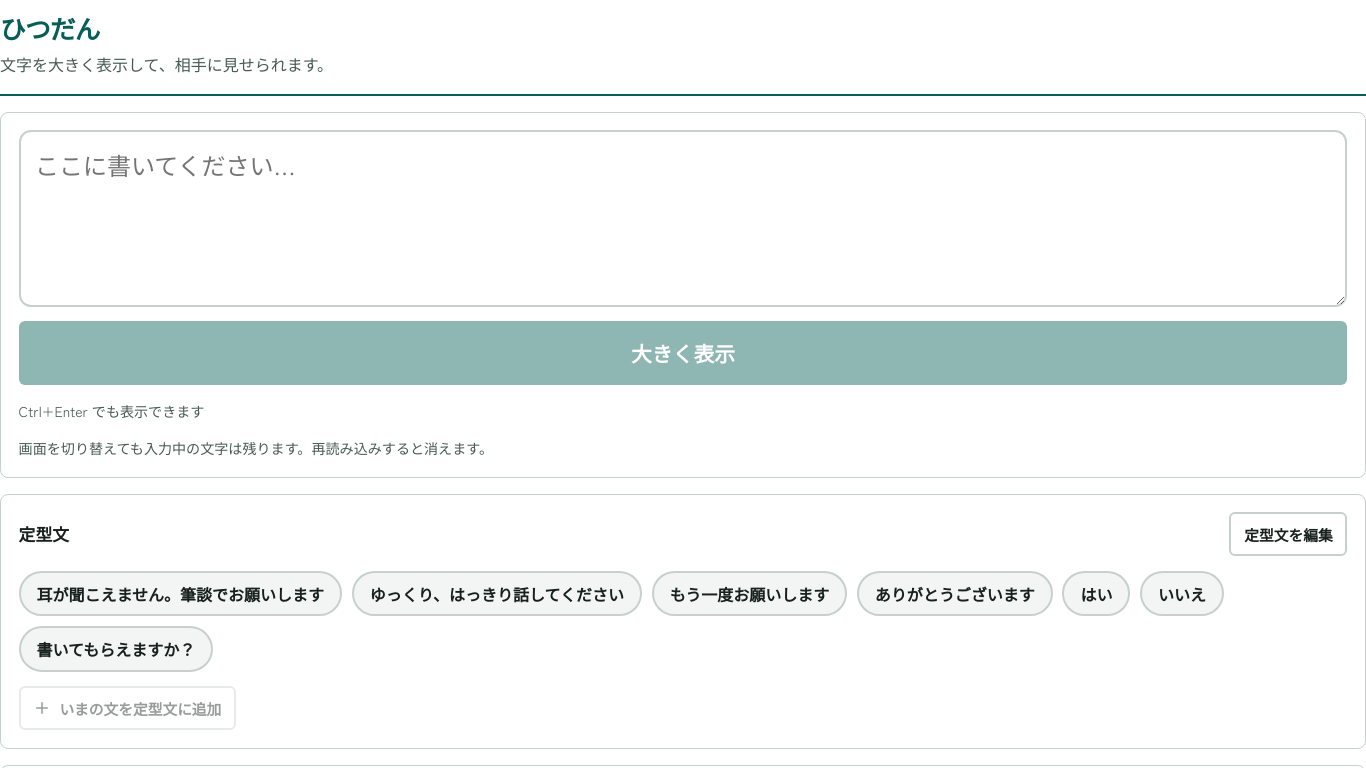
it: Board › shows with Ctrl+Enter
In the text box named "ひつだん": (683, 219) [19, 130, 1347, 307], type "駅はどこですか"
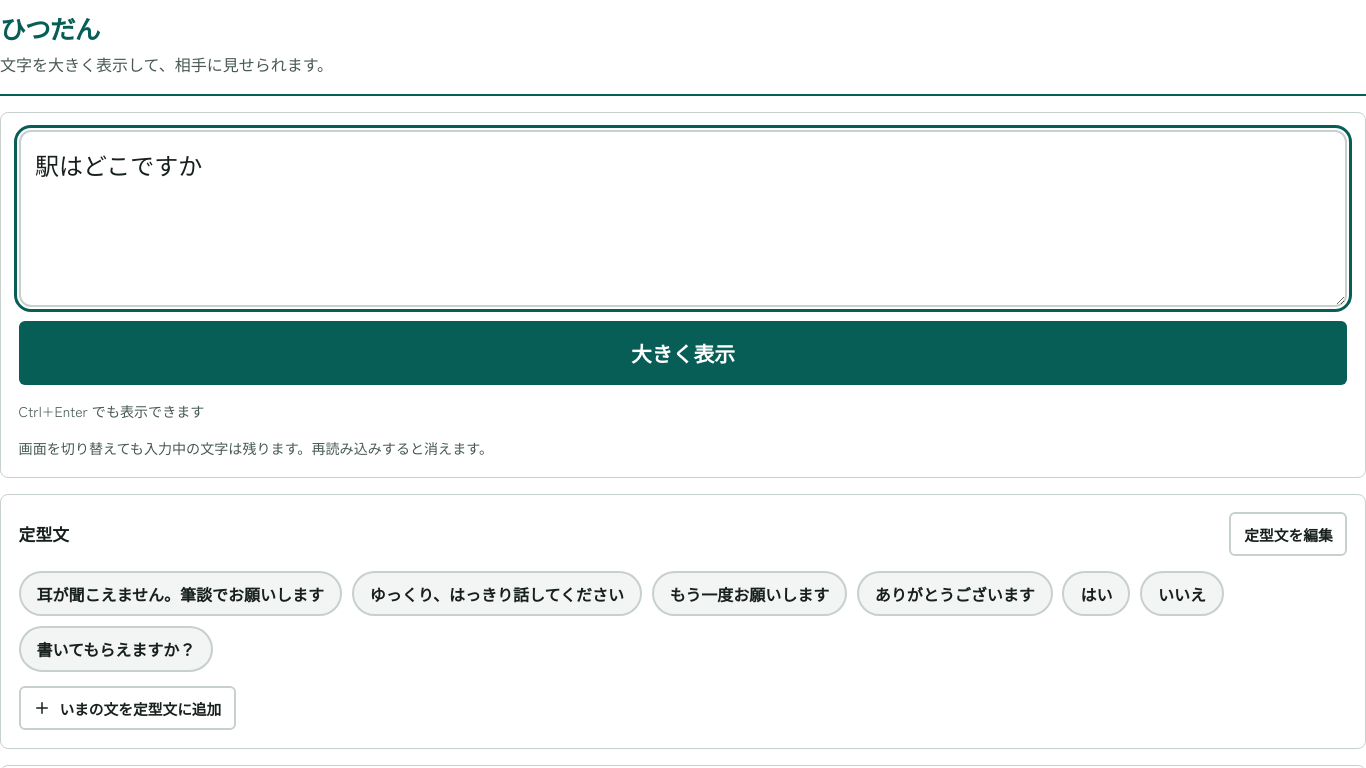
Type keys "{Control>}{Enter}{/Control}"
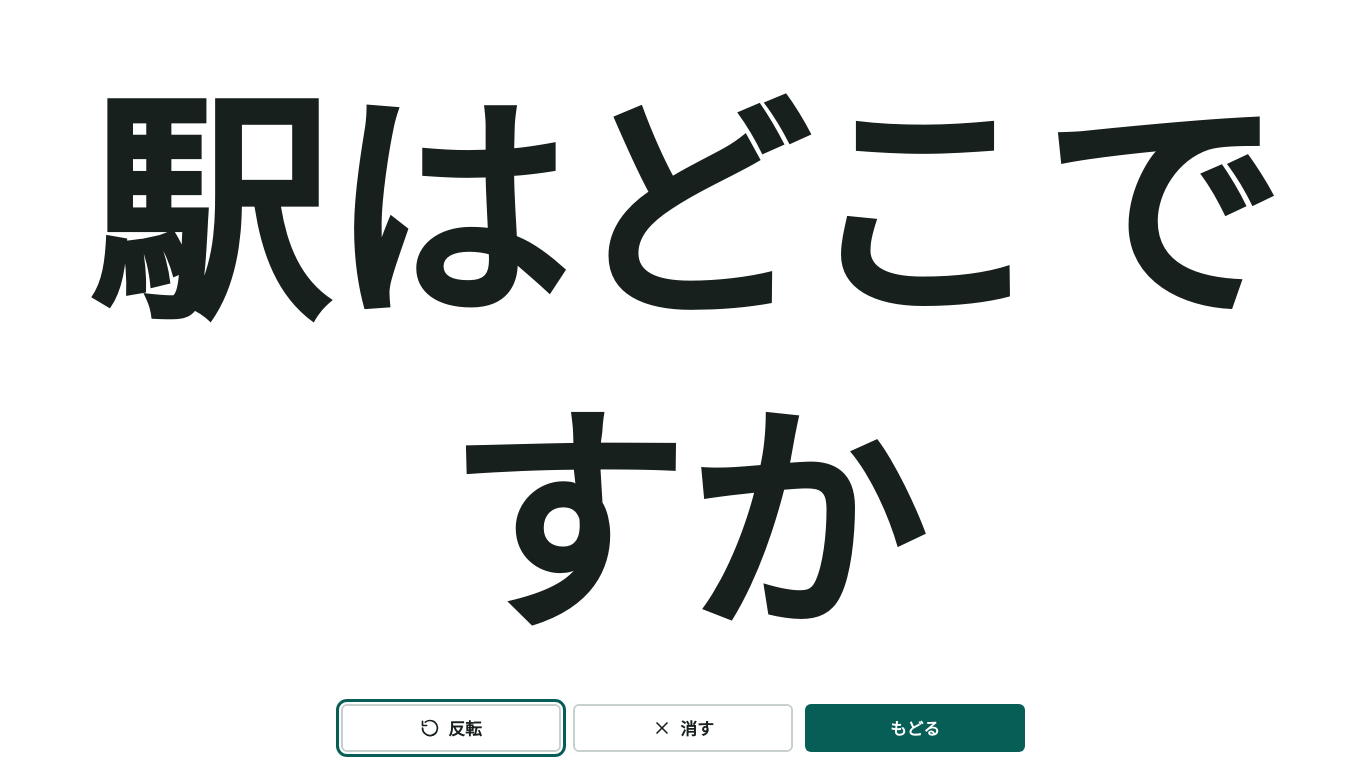
Now the dialog is shown
